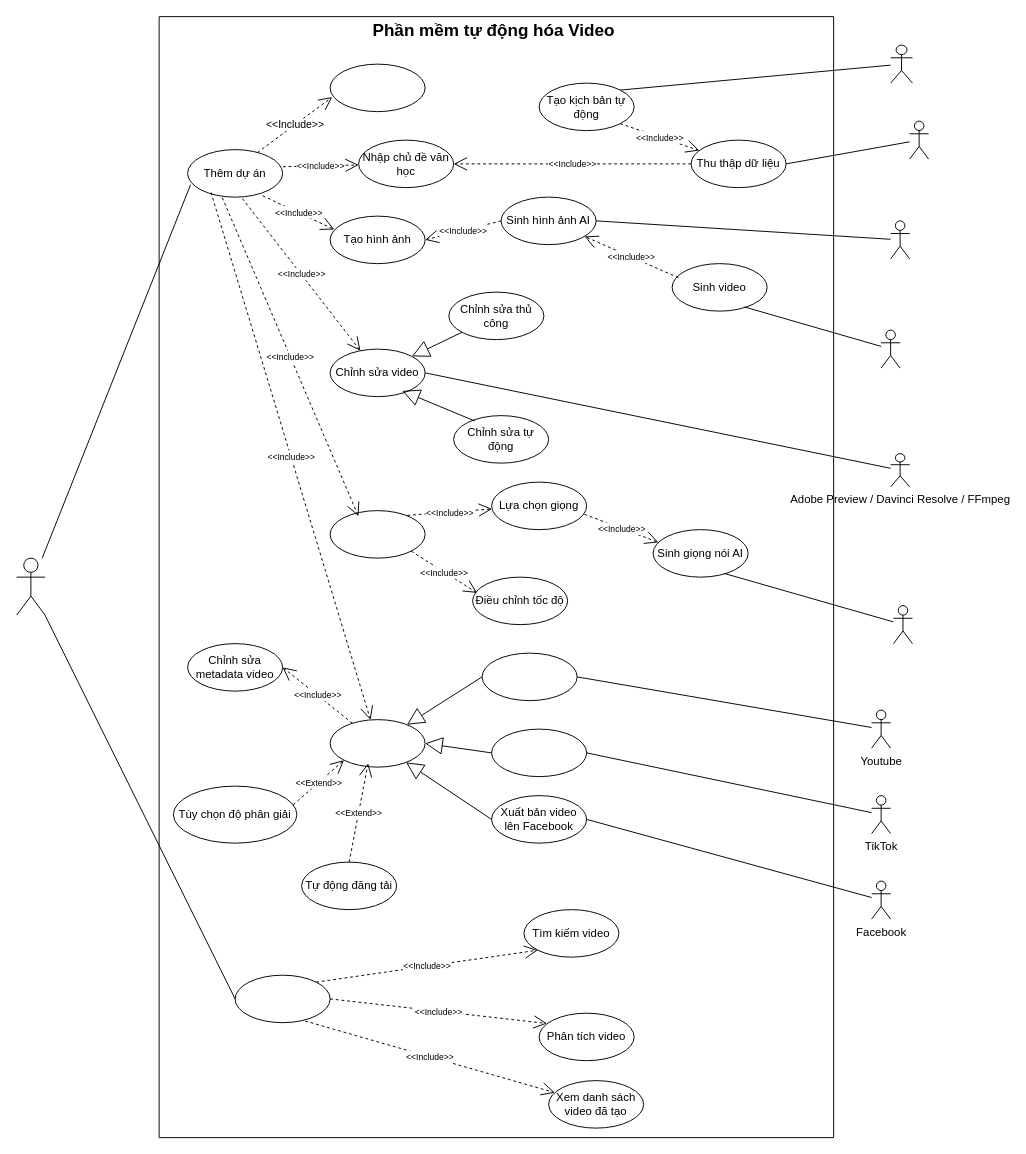
Some shapes in this 1026 by 1154 pixel diagram are drawn without their labels. The shapes that lost their labels are listed below. From the top down, each one's centre as x and y in pixels, then its label:
the point at 901,63: OpenAI
the point at 377,87: Tạo video mới
the point at 919,139: Wikipedia / thư viện quốc gia
the point at 900,239: DALL-E / Stable diffusion
the point at 890,348: RunwayML / Pika Labs / Make-A-Video
the point at 377,534: Cấu hình giọng nói
the point at 30,586: User
the point at 902,624: Google TTS
the point at 529,676: Xuất bản video lên Youtube
the point at 377,743: Xuất bản video
the point at 539,752: Xuất bản video lên TikTok
the point at 282,998: Quản lý video
